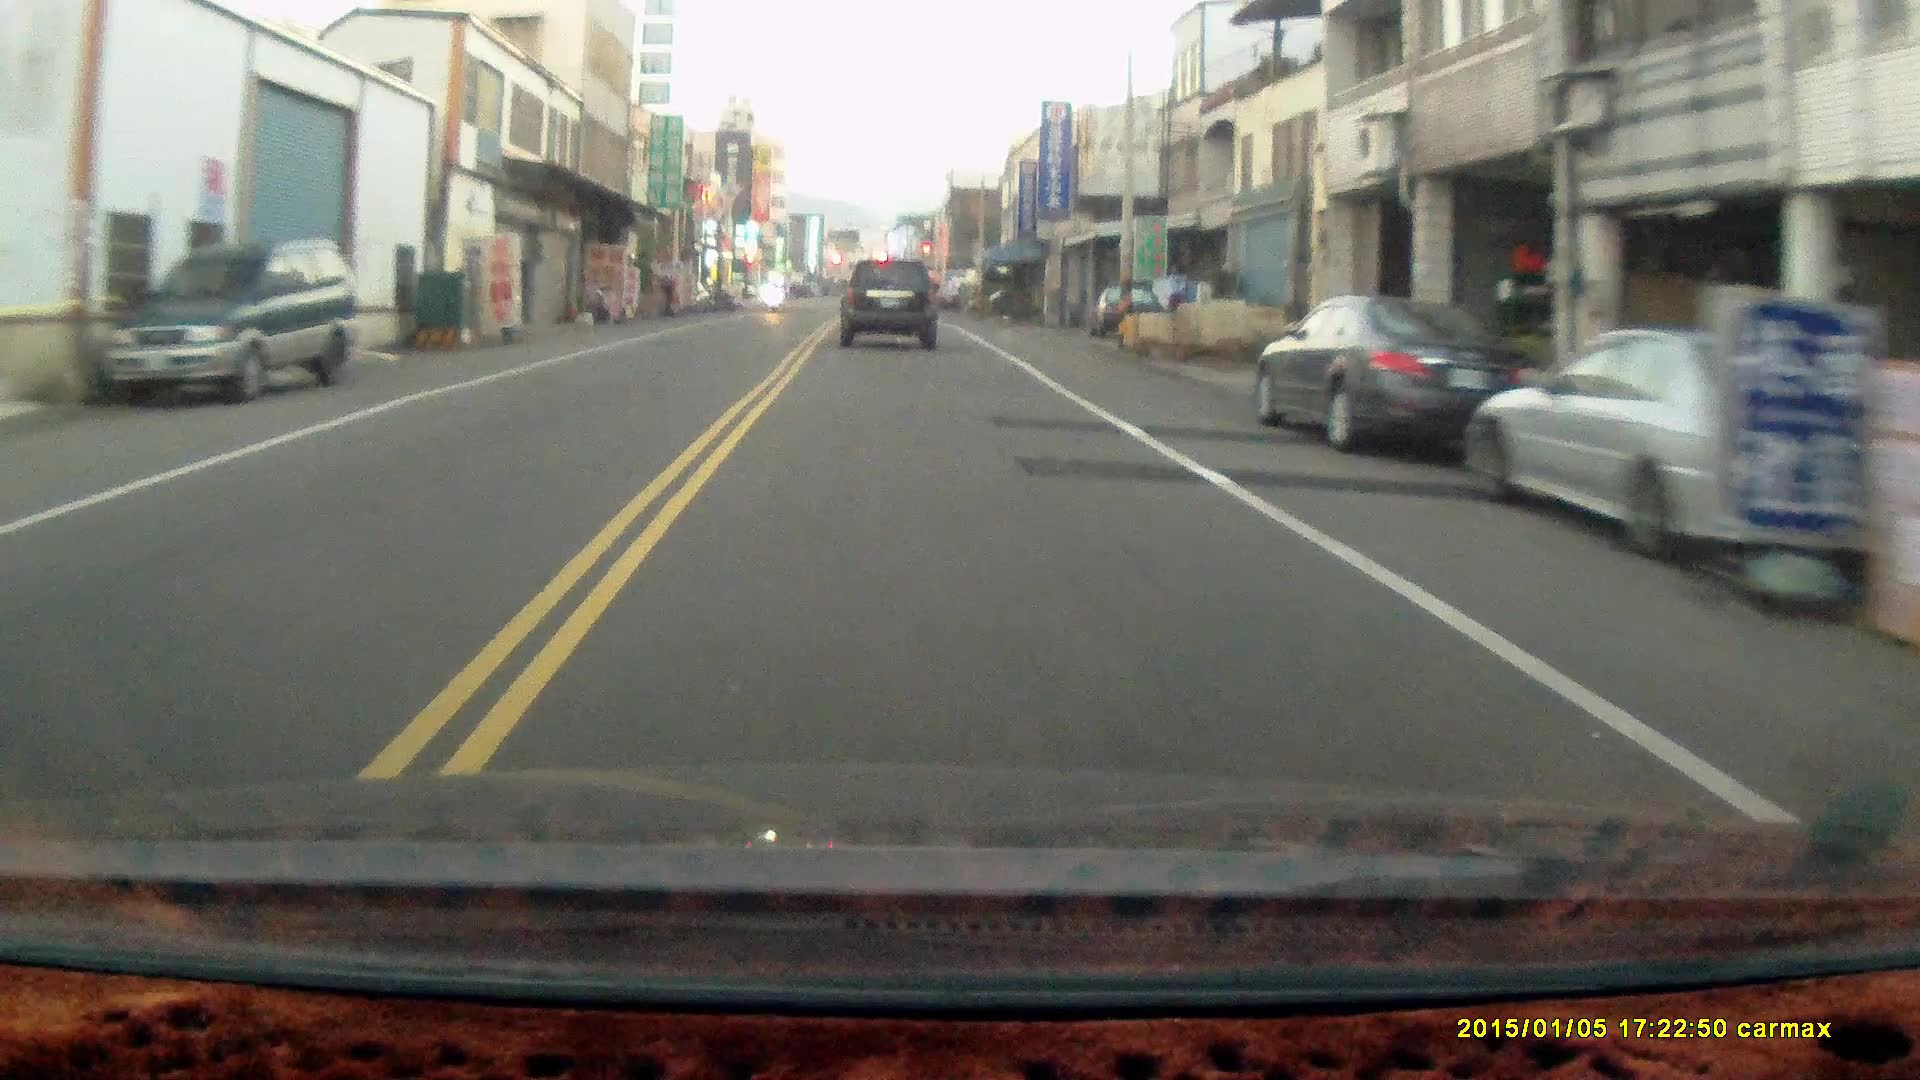pedestrian: (655, 271, 675, 321)
vehicle: (1470, 328, 1920, 549), (1254, 294, 1546, 456), (98, 238, 353, 402), (840, 260, 942, 351)
